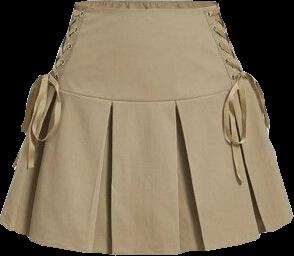Hemline: (0, 217, 293, 255)
Waistline: (46, 76, 247, 102), (74, 0, 218, 11)
